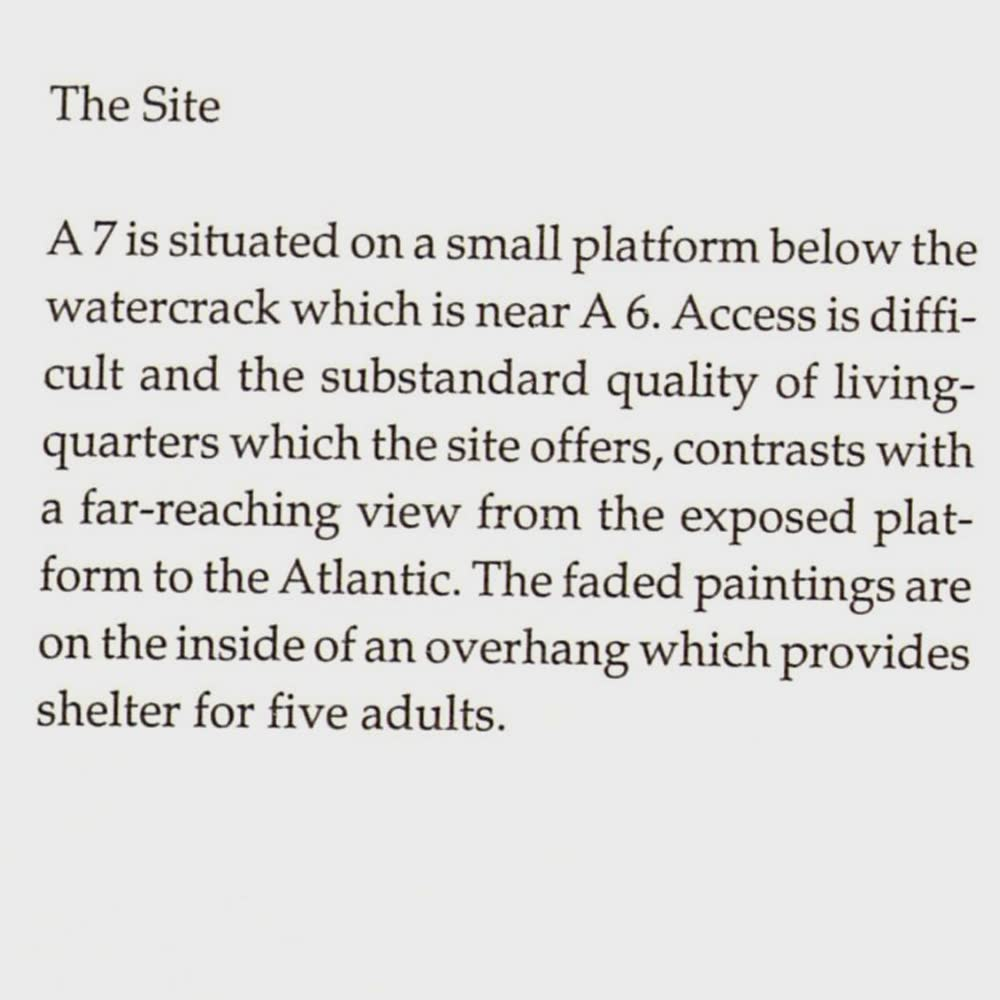text: (39, 72, 990, 750)
